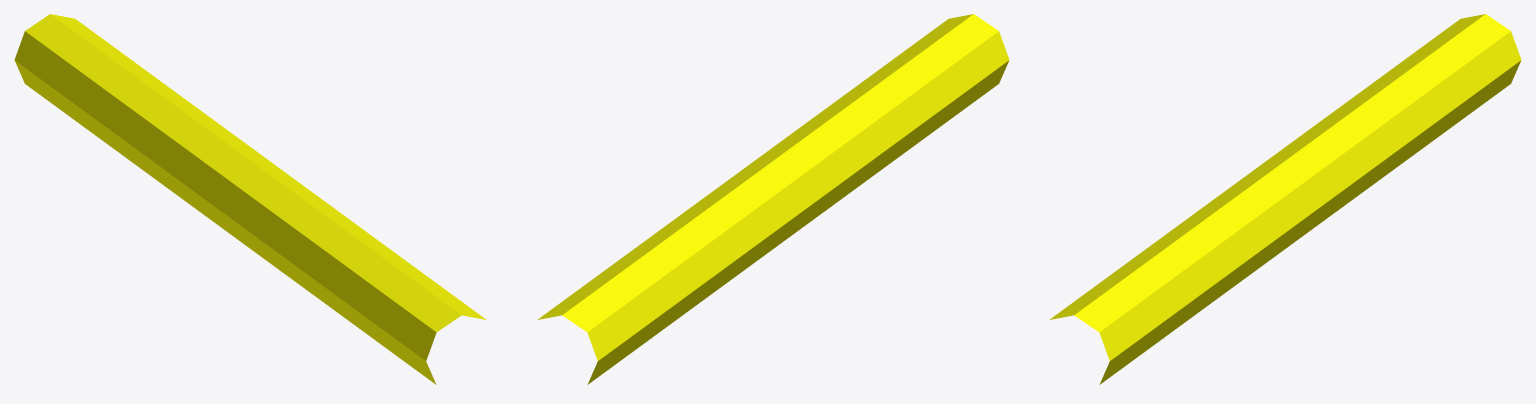
Rendered from pipeSection.glb.
The picture shows the model from 3 angles, left to right: view 1: azimuth 30°, elevation 25°; view 2: azimuth 150°, elevation 25°; view 3: azimuth 330°, elevation 25°; orthographic projection.
Parts seen in each view (by area): view 1: pipeSection; view 2: pipeSection; view 3: pipeSection.
Part boxes in pixels (x1,y1,x2,y2): pipeSection: (14, 14, 486, 384); pipeSection: (537, 14, 1009, 384); pipeSection: (1049, 14, 1521, 384).
Size of the model in its own units: 0.1 by 0.1 by 1.
